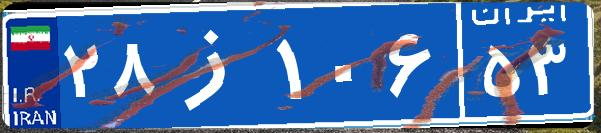0: (330, 28, 385, 110)
1: (273, 28, 330, 110)
2: (57, 26, 110, 107)
3: (525, 38, 570, 115)
5: (475, 38, 525, 113)
6: (385, 28, 445, 110)
8: (110, 28, 158, 105)
ز: (158, 15, 273, 115)
